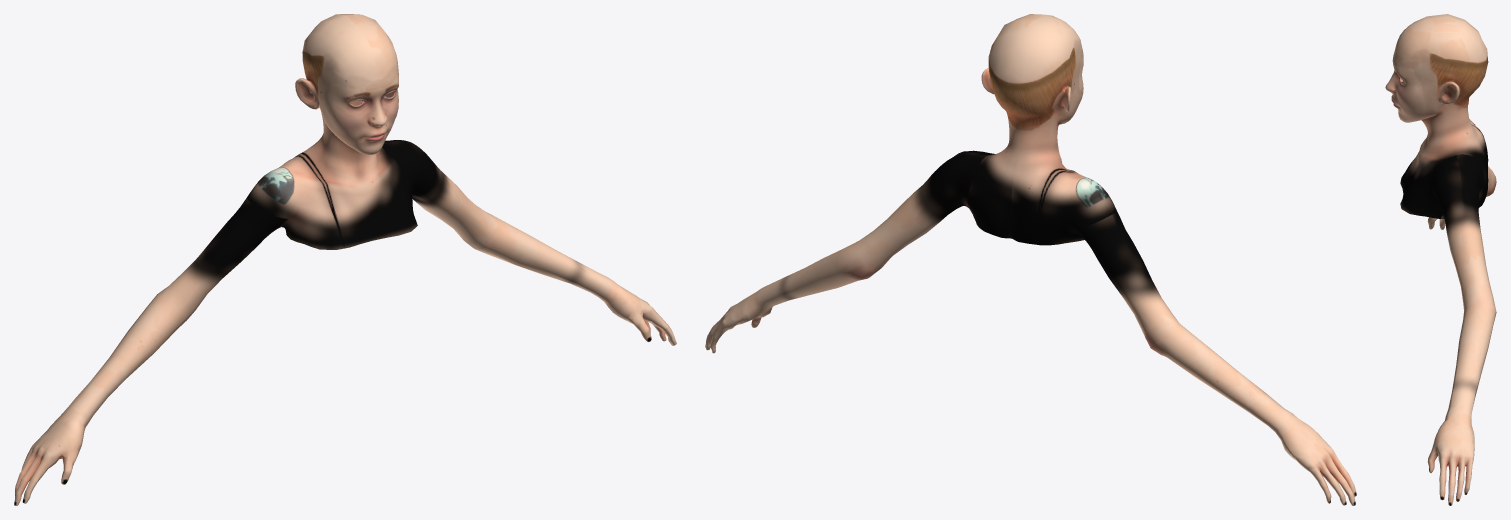
The model's file is Clarissa.obj.
3 views of the same model, side by side, from view 1: azimuth 30°, elevation 25°; view 2: azimuth 150°, elevation 25°; view 3: azimuth 270°, elevation 25° (orthographic). The views are drawn at different scales.
Parts seen in each view (by area): view 1: Clarissa_BodyFaceMouth Mesh_grp Clarissa_Rig; view 2: Clarissa_BodyFaceMouth Mesh_grp Clarissa_Rig; view 3: Clarissa_BodyFaceMouth Mesh_grp Clarissa_Rig.
Boxes of the visible parts, bbox=[...] form: Clarissa_BodyFaceMouth Mesh_grp Clarissa_Rig: bbox=[14, 14, 676, 505]; Clarissa_BodyFaceMouth Mesh_grp Clarissa_Rig: bbox=[705, 14, 1356, 505]; Clarissa_BodyFaceMouth Mesh_grp Clarissa_Rig: bbox=[1385, 14, 1496, 505].
Size of the model in its own units: 134 by 79.85 by 22.96.
